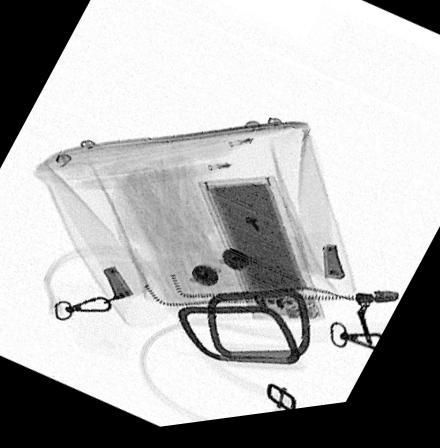Powerbank: (199, 181, 322, 326)
